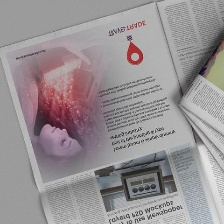news_paper: (0, 0, 223, 223), (175, 31, 224, 179)
